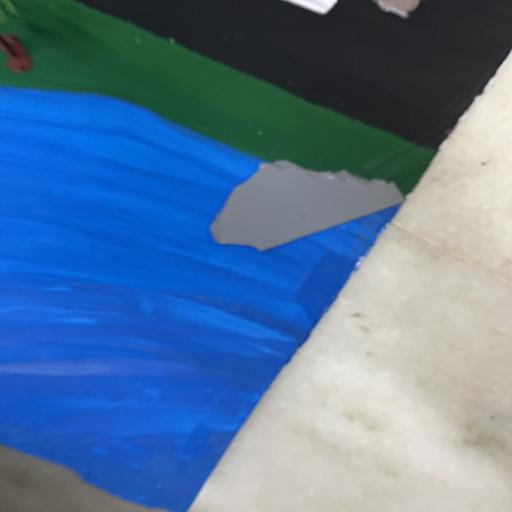porthole: (205, 159, 405, 251)
